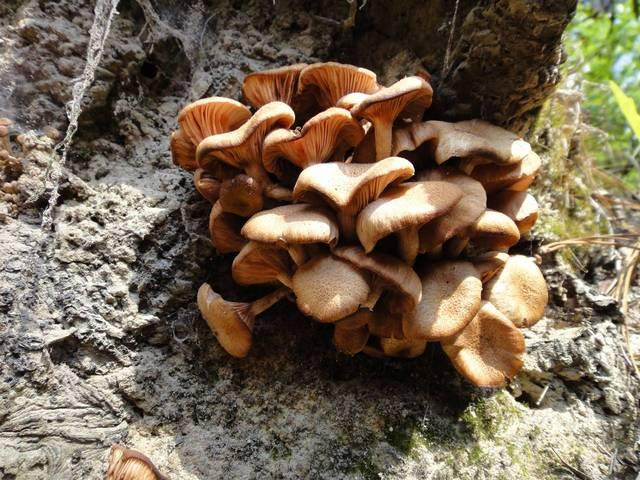edible_mushroom: (169, 59, 549, 389)
